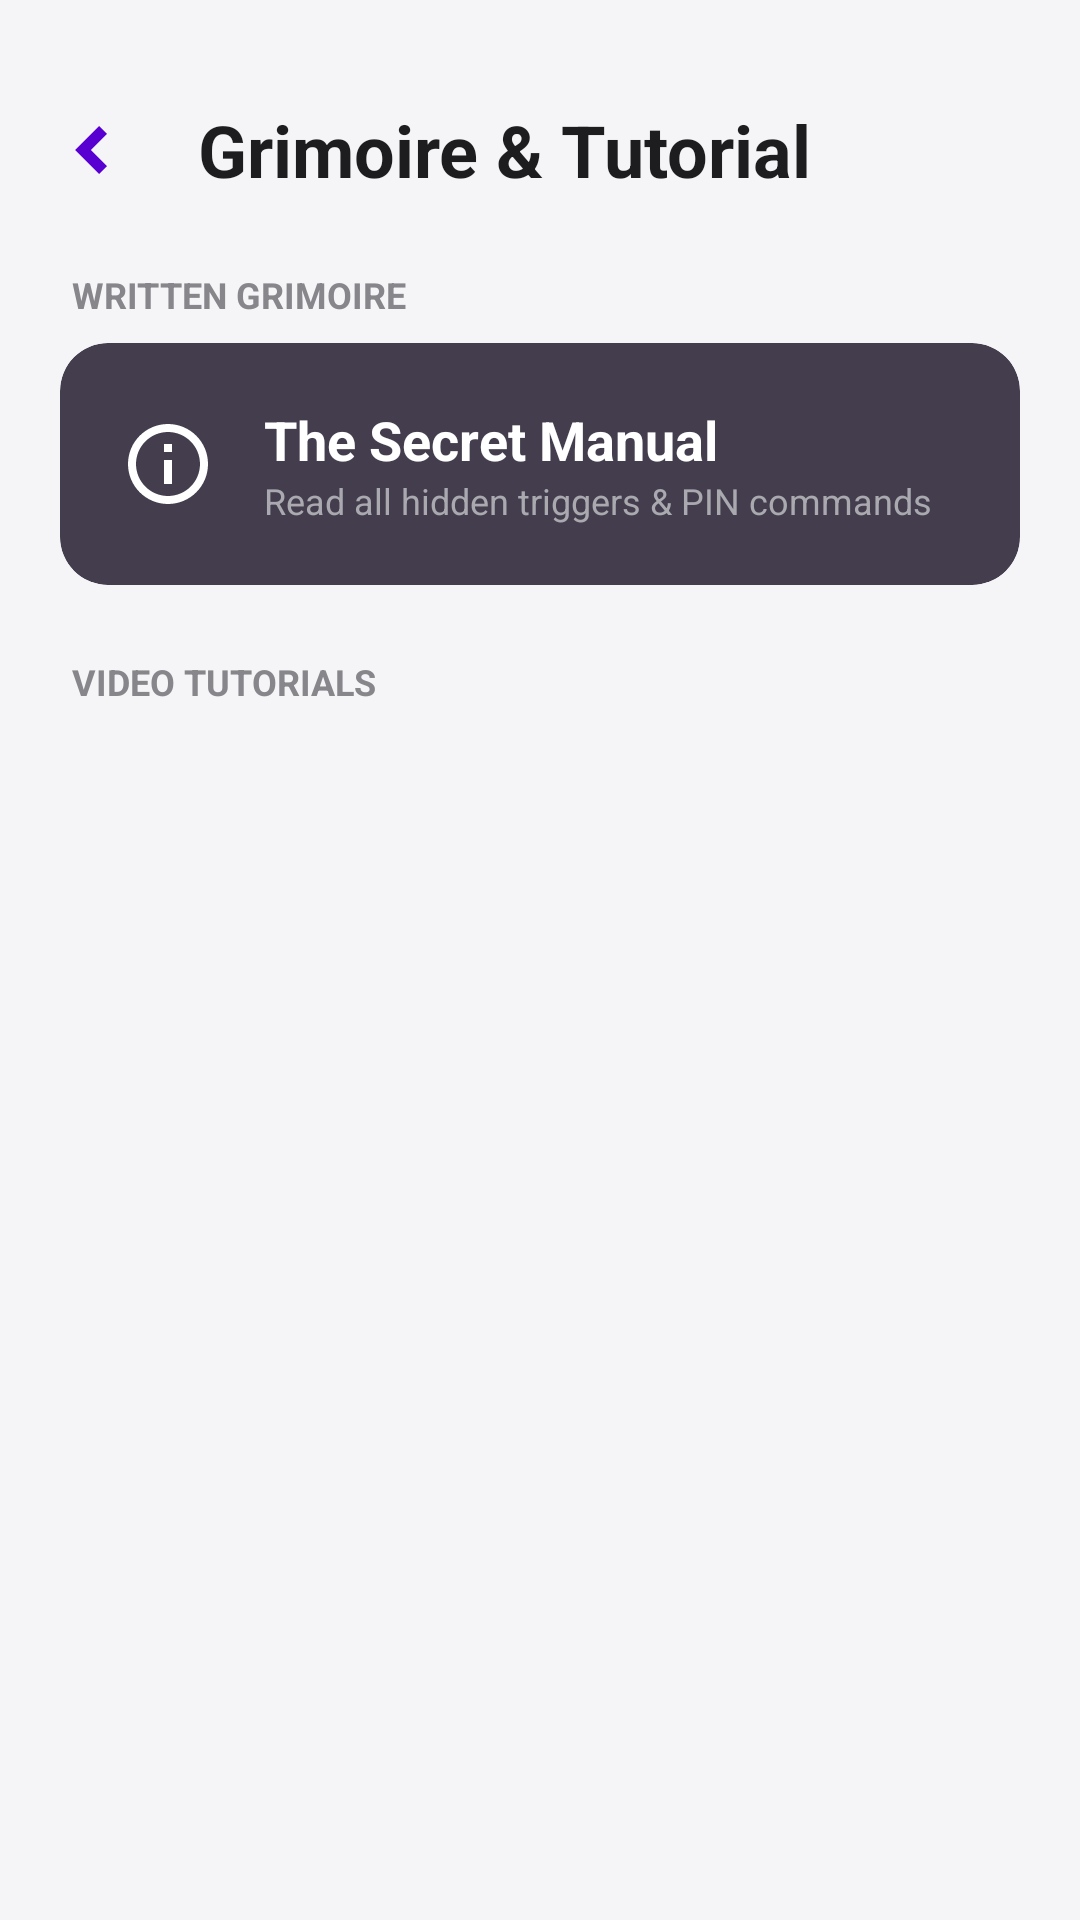

Screen size 1080×1920. Icon name, then its box in pixels as (x1, y1, x2, y2):
back arrow: (75, 126, 107, 174)
info: (128, 424, 208, 504)
